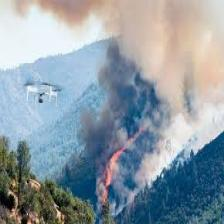drone: (21, 72, 61, 110)
